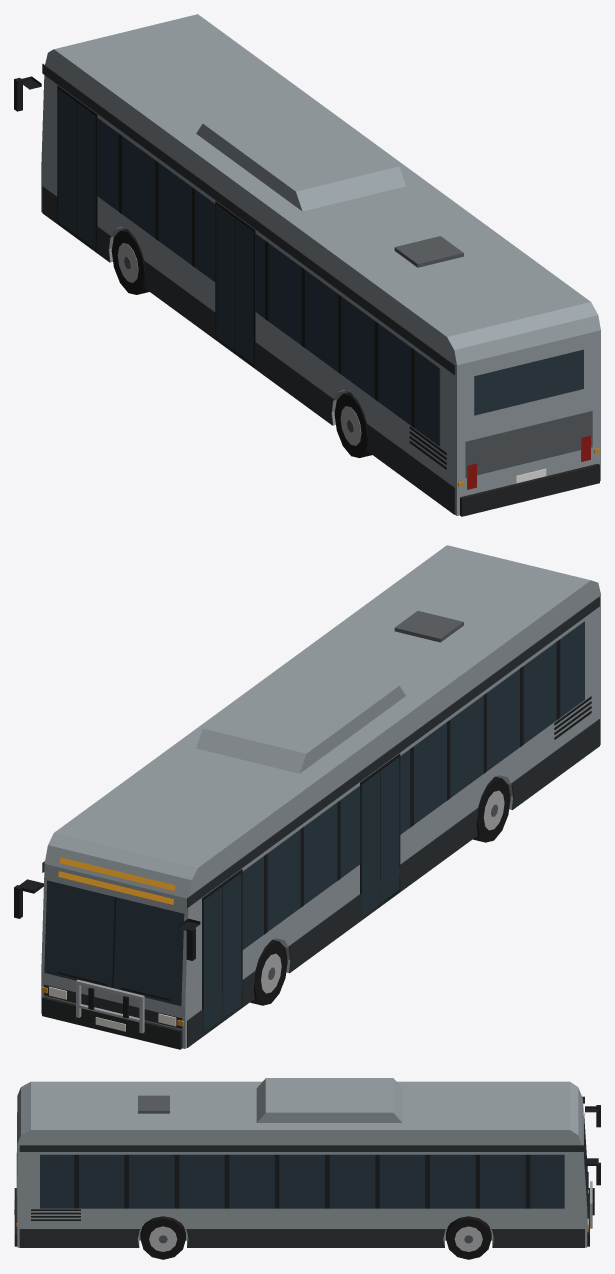
Rendered from bus.glb.
3 views of the same model, one above another, from view 1: azimuth 30°, elevation 25°; view 2: azimuth 150°, elevation 25°; view 3: azimuth 270°, elevation 25° (orthographic). The views are drawn at different scales.
Parts seen in each view (by area): view 1: Bus; view 2: Bus, Dest; view 3: Bus.
Boxes of the visible parts, x1,y1,x2,y2 form: Bus: (14,14,600,516); Bus: (14,545,600,1049); Dest: (58,857,175,904); Bus: (14,1078,600,1259).
Bounding box in the file's own units: 3.1 × 3.4 × 12.87.
